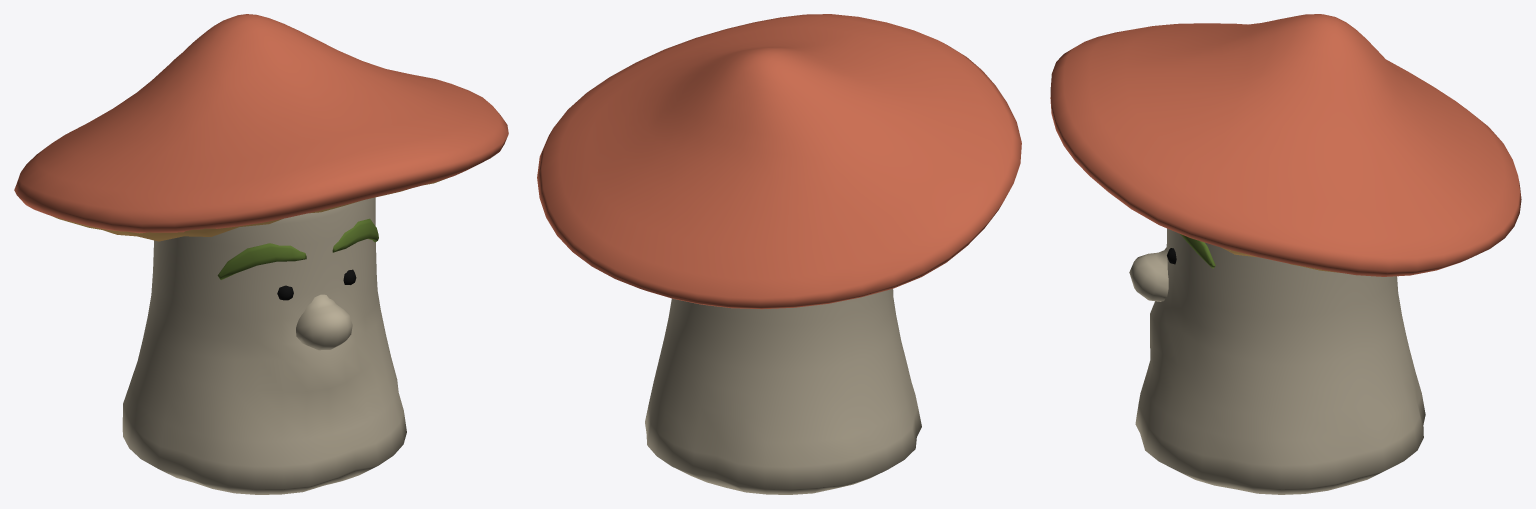
File: SM_Mushroom03_low_02.fbx
The picture shows the model from 3 angles, left to right: view 1: azimuth 30°, elevation 25°; view 2: azimuth 150°, elevation 25°; view 3: azimuth 270°, elevation 25°; orthographic projection. The views are drawn at different scales.
Parts seen in each view (by area): view 1: SM_Mushroom_03; view 2: SM_Mushroom_03; view 3: SM_Mushroom_03.
Boxes of the visible parts, x1,y1,x2,y2 form: SM_Mushroom_03: (14,14,508,494); SM_Mushroom_03: (537,14,1021,494); SM_Mushroom_03: (1050,14,1521,494).
Size of the model in its own units: 459 by 423 by 419.
